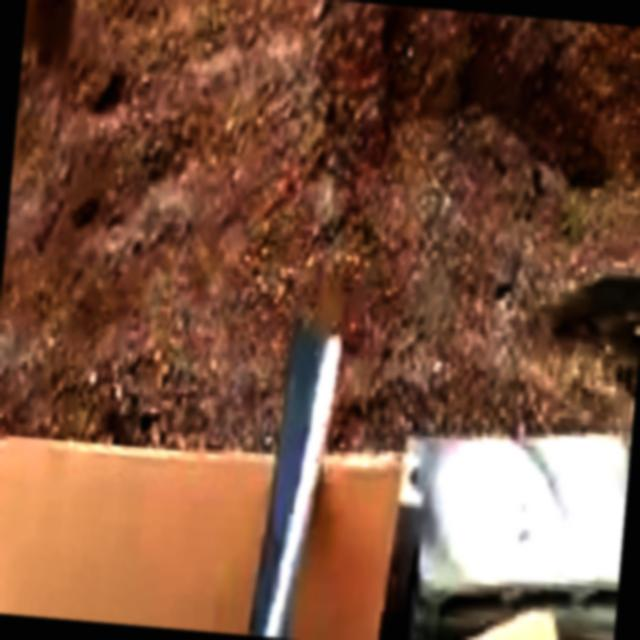eto: (252, 320, 342, 634)
